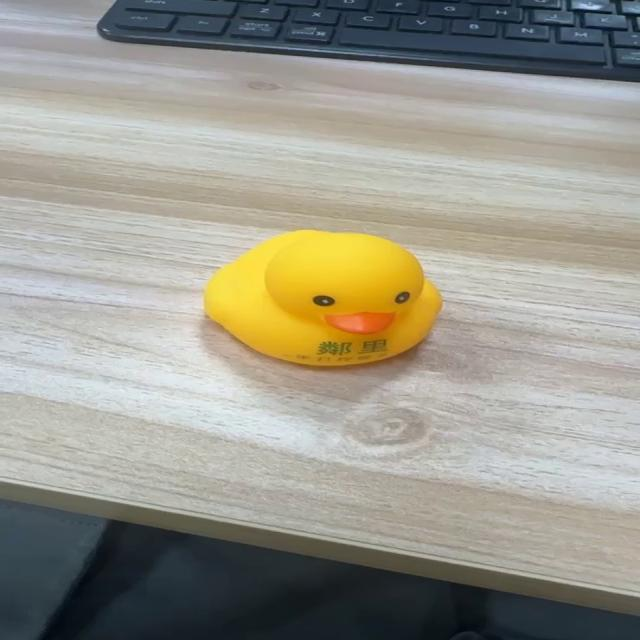yellow_duck: (202, 228, 444, 367)
